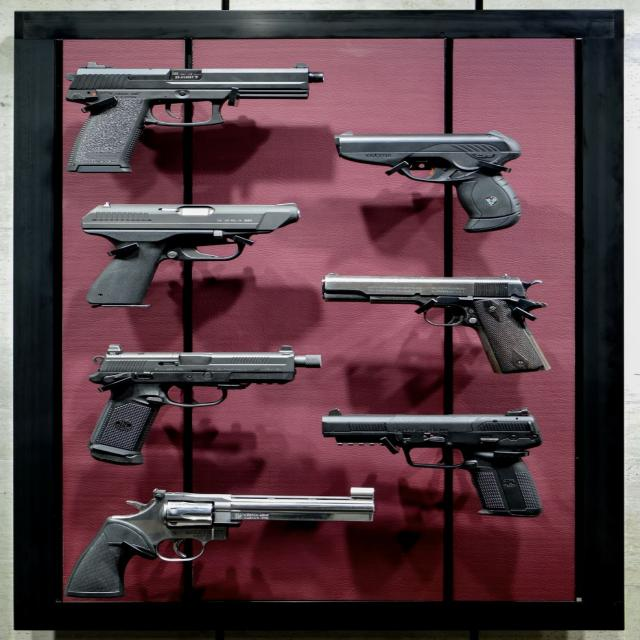HandGun: (64, 490, 375, 600), (64, 66, 326, 175), (88, 346, 322, 468), (322, 411, 543, 519), (80, 203, 301, 309), (322, 276, 548, 377), (335, 133, 522, 236)
